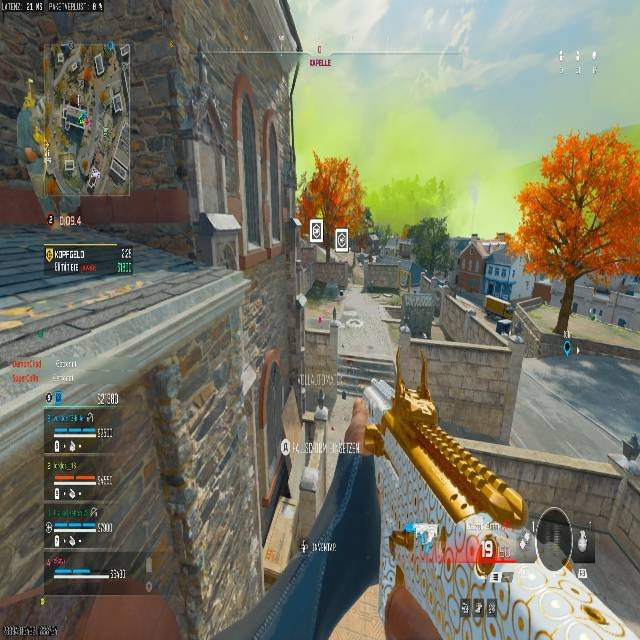head: (526, 507, 586, 568)
player: (482, 510, 635, 638), (502, 301, 525, 344)
